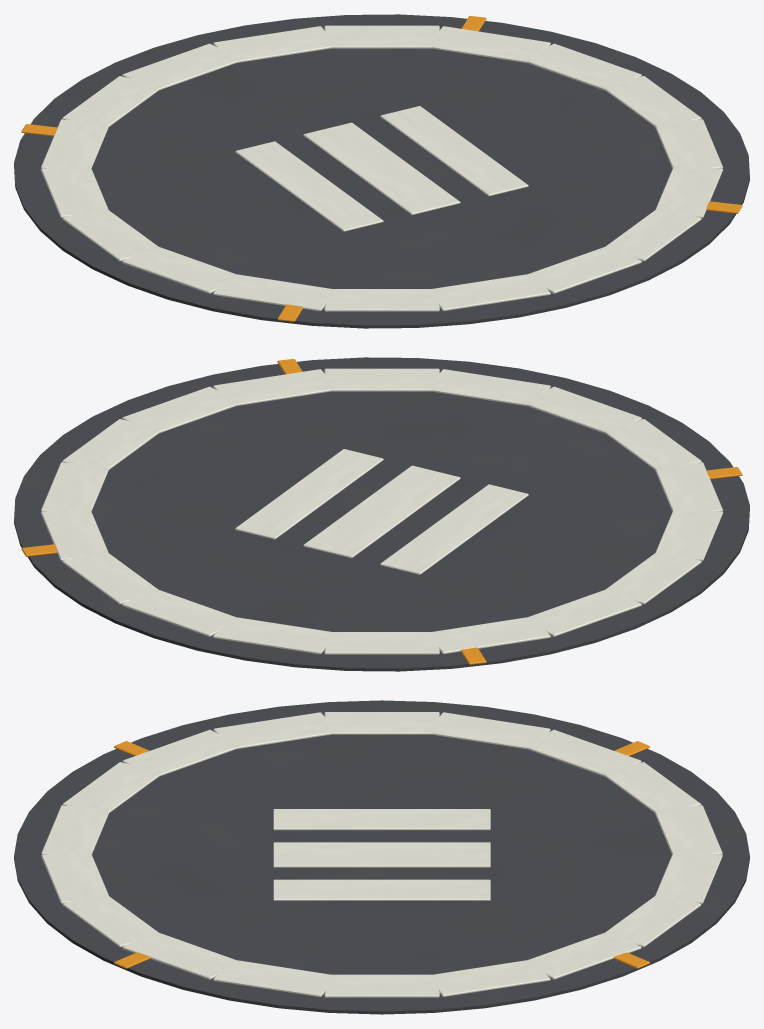
Rendered from misc_helipad_marking.glb.
The picture shows the model from 3 angles, top to bottom: view 1: azimuth 30°, elevation 25°; view 2: azimuth 150°, elevation 25°; view 3: azimuth 270°, elevation 25°; orthographic projection.
Parts seen in each view (by area): view 1: misc_helipad_marking_pad, misc_helipad_marking_band, misc_helipad_marking_marks; view 2: misc_helipad_marking_pad, misc_helipad_marking_band, misc_helipad_marking_marks; view 3: misc_helipad_marking_pad, misc_helipad_marking_band, misc_helipad_marking_marks.
Part boxes in pixels (<box>): misc_helipad_marking_pad: <box>14,14,749,328</box>; misc_helipad_marking_band: <box>40,25,723,311</box>; misc_helipad_marking_marks: <box>21,16,742,321</box>; misc_helipad_marking_pad: <box>14,357,749,671</box>; misc_helipad_marking_band: <box>40,368,723,654</box>; misc_helipad_marking_marks: <box>21,359,742,664</box>; misc_helipad_marking_pad: <box>14,700,749,1014</box>; misc_helipad_marking_band: <box>41,712,722,997</box>; misc_helipad_marking_marks: <box>114,741,649,968</box>.
Size of the model in its own units: 4.4 by 0.036 by 4.4.
3 materials, 3 textured.
